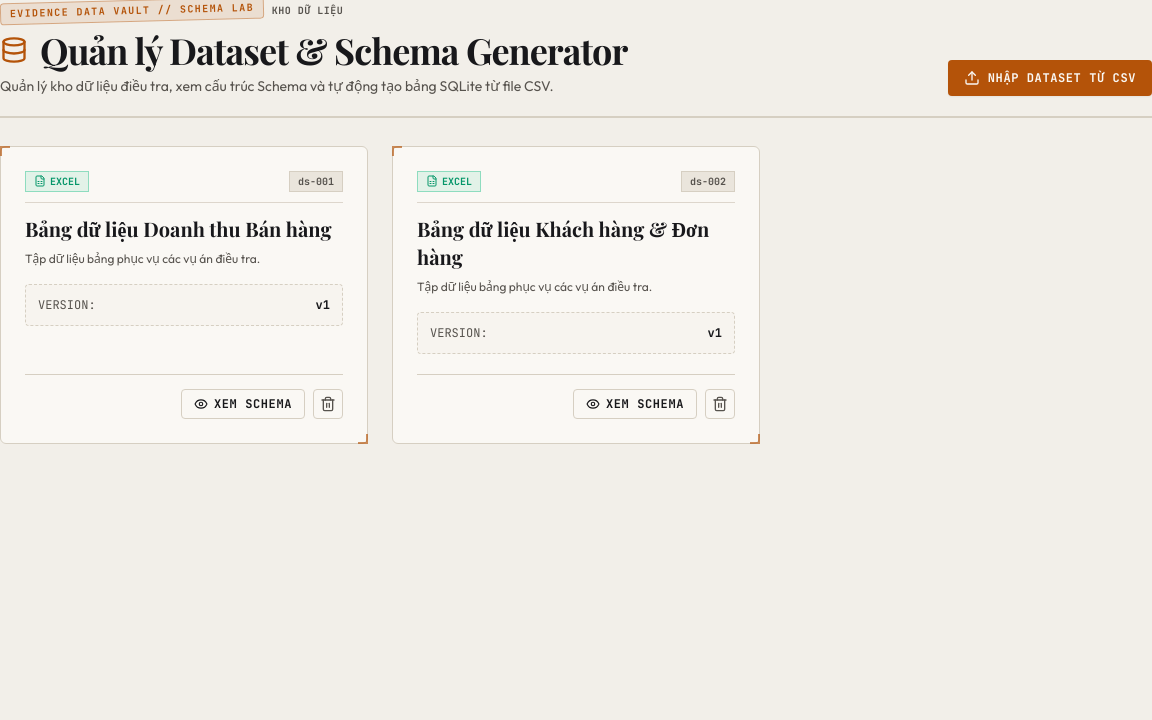
AdminDatasetsPage Component Tests › mở modal Nhập CSV và tự động nhận diện Schema
Click the button "Nhập Dataset Từ CSV".
click(1050, 78)  # box 948,60 -> 1151,96
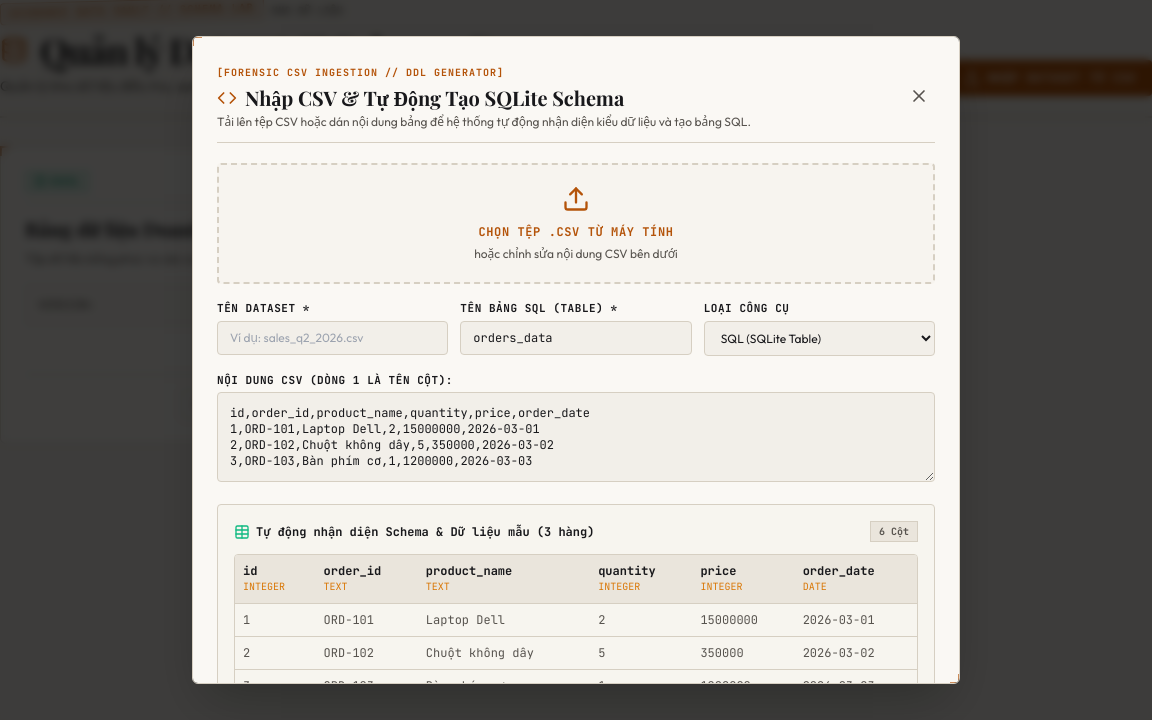
Result: the heading "Nhập CSV & Tự Động Tạo SQLite Schema" is shown at 217,84 -> 624,111
Result: the heading "Tự động nhận diện Schema & Dữ liệu mẫu (3 hàng)" is shown at 234,524 -> 594,540
Test filling dataset name and saving
Type "custom_test_dataset" into the field with placeholder "Ví dụ: sales_q2_2026.csv".
click(333, 338); type("custom_test_dataset")  # box 217,320 -> 448,354
(page scrolled)
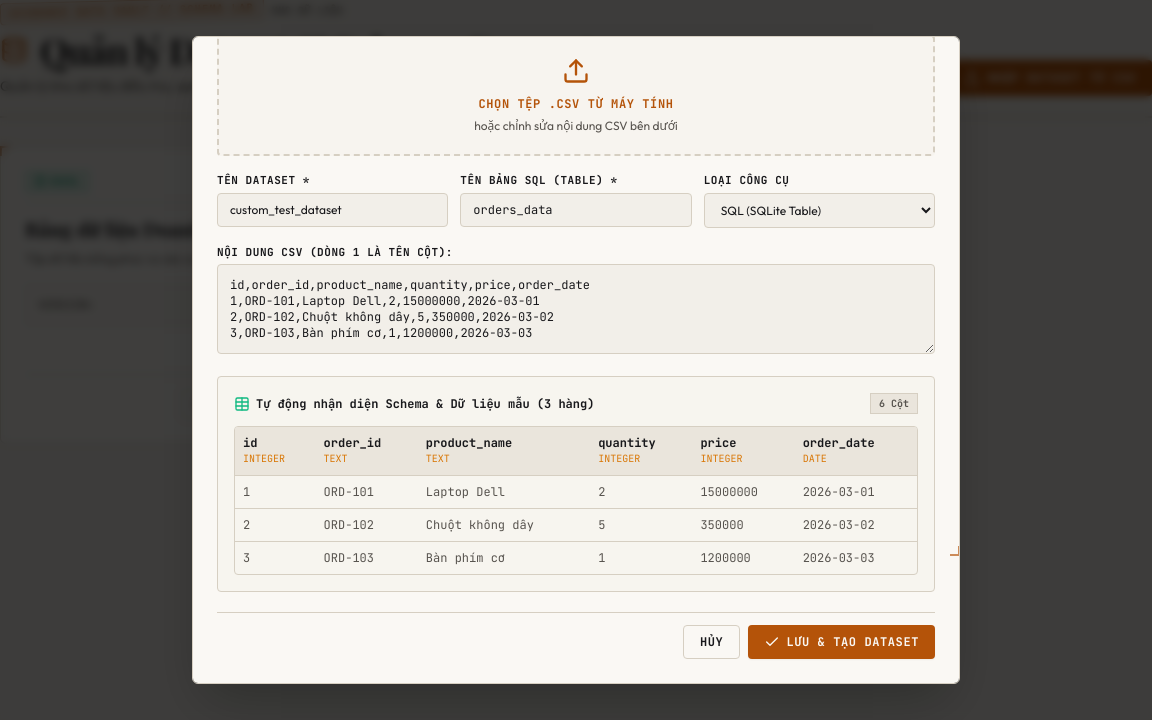
Click the button "Lưu & Tạo Dataset".
click(842, 642)  # box 748,625 -> 935,659
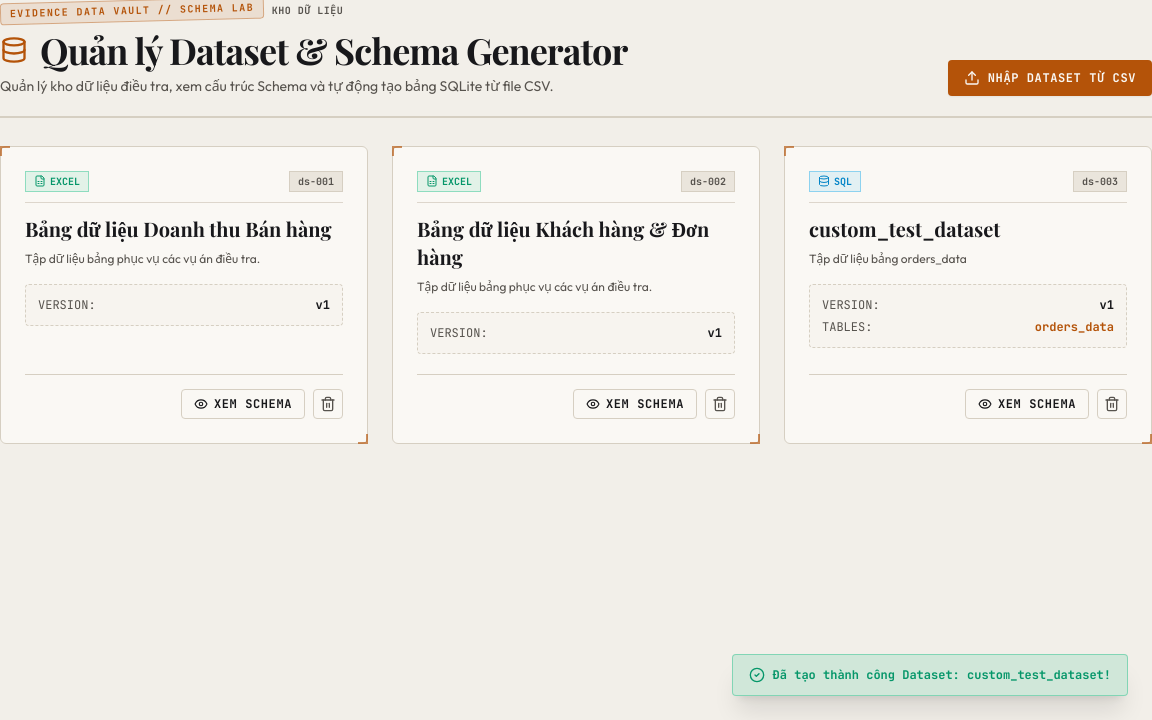
Result: the text "Đã tạo thành công Dataset: custom_test_dataset!" is shown at 732,654 -> 1128,696
